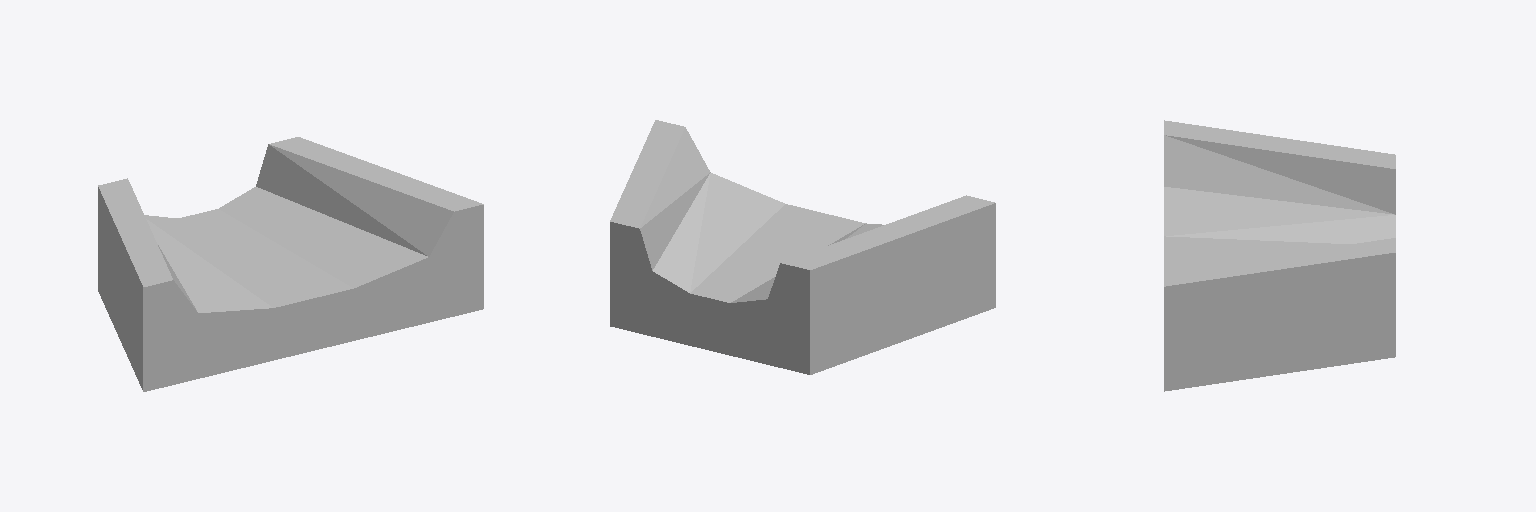
Rendered from funnel.obj.
The picture shows the model from 3 angles: view 1: azimuth 30°, elevation 25°; view 2: azimuth 150°, elevation 25°; view 3: azimuth 270°, elevation 25°; orthographic projection.
Visible parts, largest first — view 1: funnel; view 2: funnel; view 3: funnel.
Part boxes in pixels (left/top/right/bottom): funnel: left=98, top=137, right=483, bottom=391; funnel: left=610, top=120, right=995, bottom=374; funnel: left=1164, top=120, right=1395, bottom=391.
Size of the model in its own units: 1.7 by 0.5 by 1.